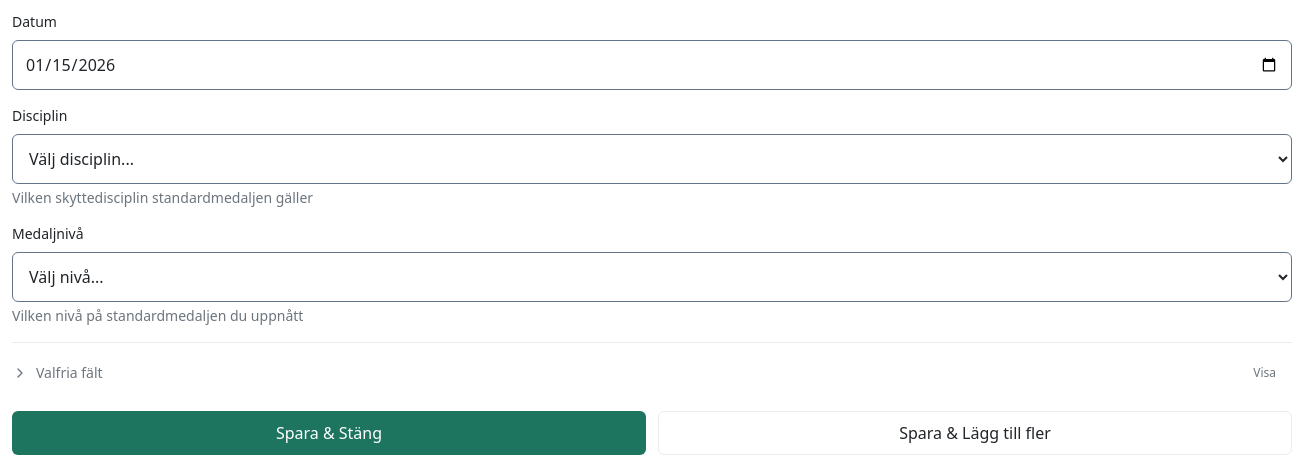
Test case: StandardMedalForm › validation › shows error when medal type is not selected
Select "Fält" in the dropdown named "Välj disciplin" at [652, 159], box [12,134,1292,184]
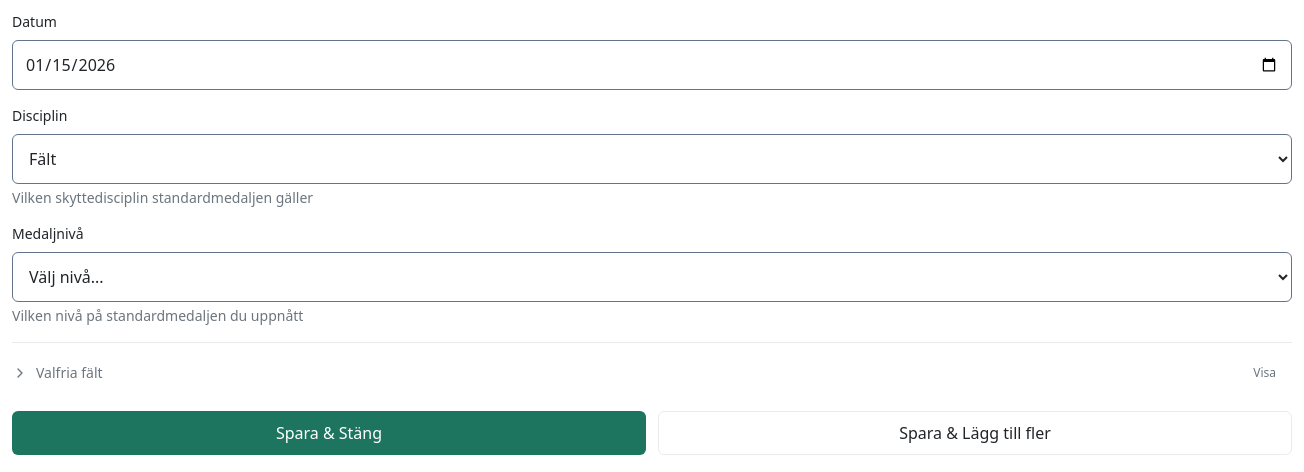
Click the button "Spara & Stäng" at [329, 433], box [12,411,646,455]
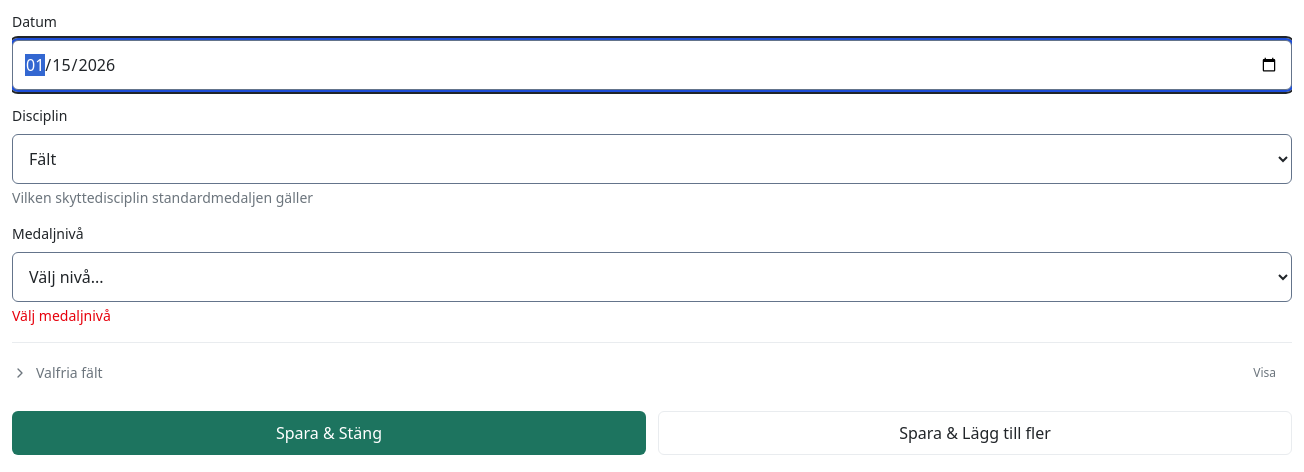
Result: the text "Välj medaljnivå" is shown at [12,306,111,325]
